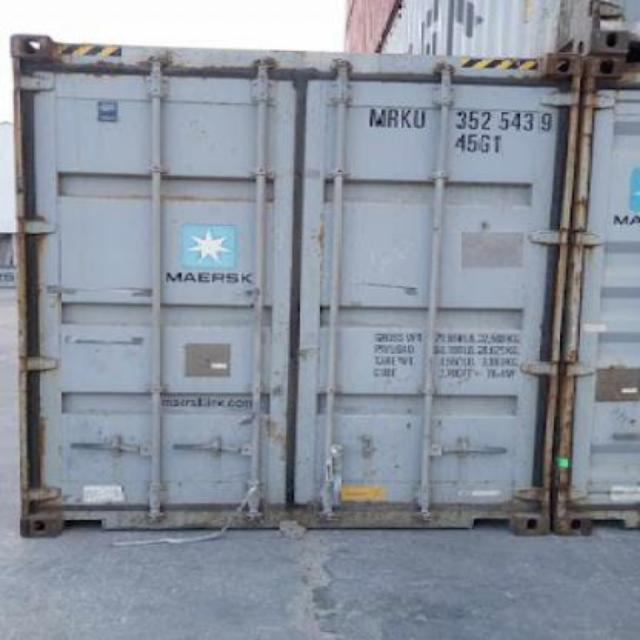2: (480, 108, 492, 130)
3: (454, 108, 468, 130), (524, 111, 534, 132)
4: (510, 111, 522, 132)
5: (500, 110, 510, 134), (468, 108, 478, 128)
9: (542, 110, 552, 132)
K: (400, 108, 412, 128)
M: (368, 104, 386, 128)
R: (386, 108, 398, 128)
U: (412, 108, 426, 132)
